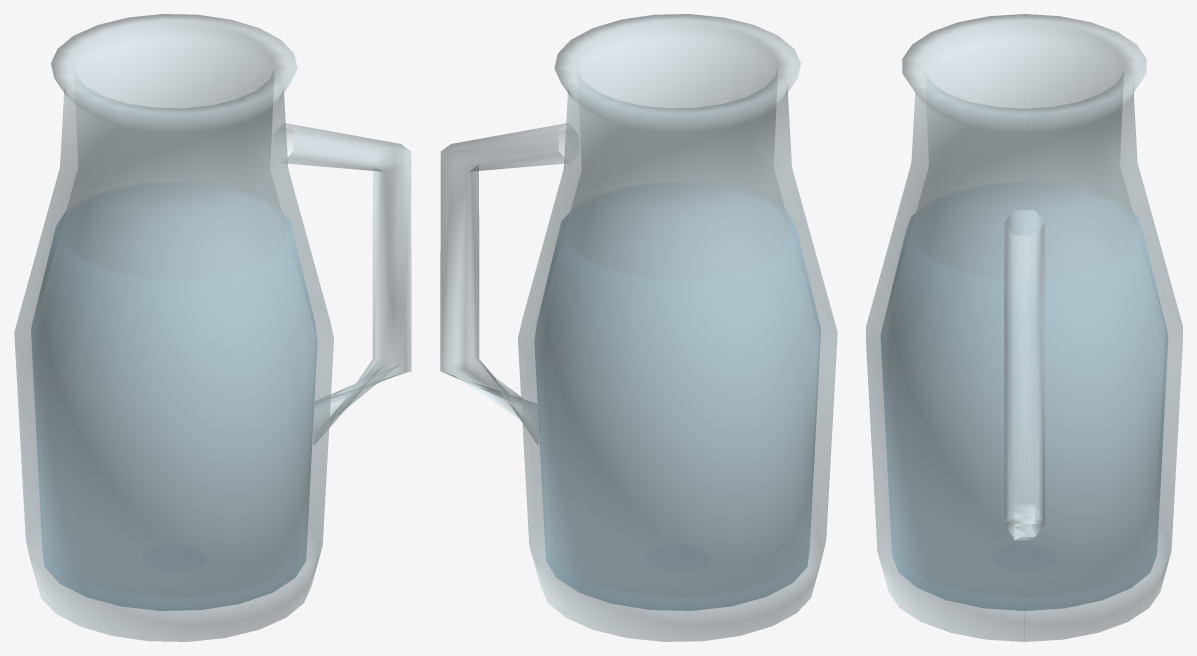
File: RmJug.fbx
The picture shows the model from 3 angles, left to right: view 1: azimuth 30°, elevation 25°; view 2: azimuth 150°, elevation 25°; view 3: azimuth 270°, elevation 25°; orthographic projection.
Parts seen in each view (by area): view 1: RmJugBody; view 2: RmJugBody; view 3: RmJugBody.
Boxes of the visible parts, bbox=[...] form: RmJugBody: bbox=[14, 14, 411, 641]; RmJugBody: bbox=[440, 14, 837, 641]; RmJugBody: bbox=[866, 14, 1182, 641].
Size of the model in its own units: 0.1873 by 0.25 by 0.1386.
